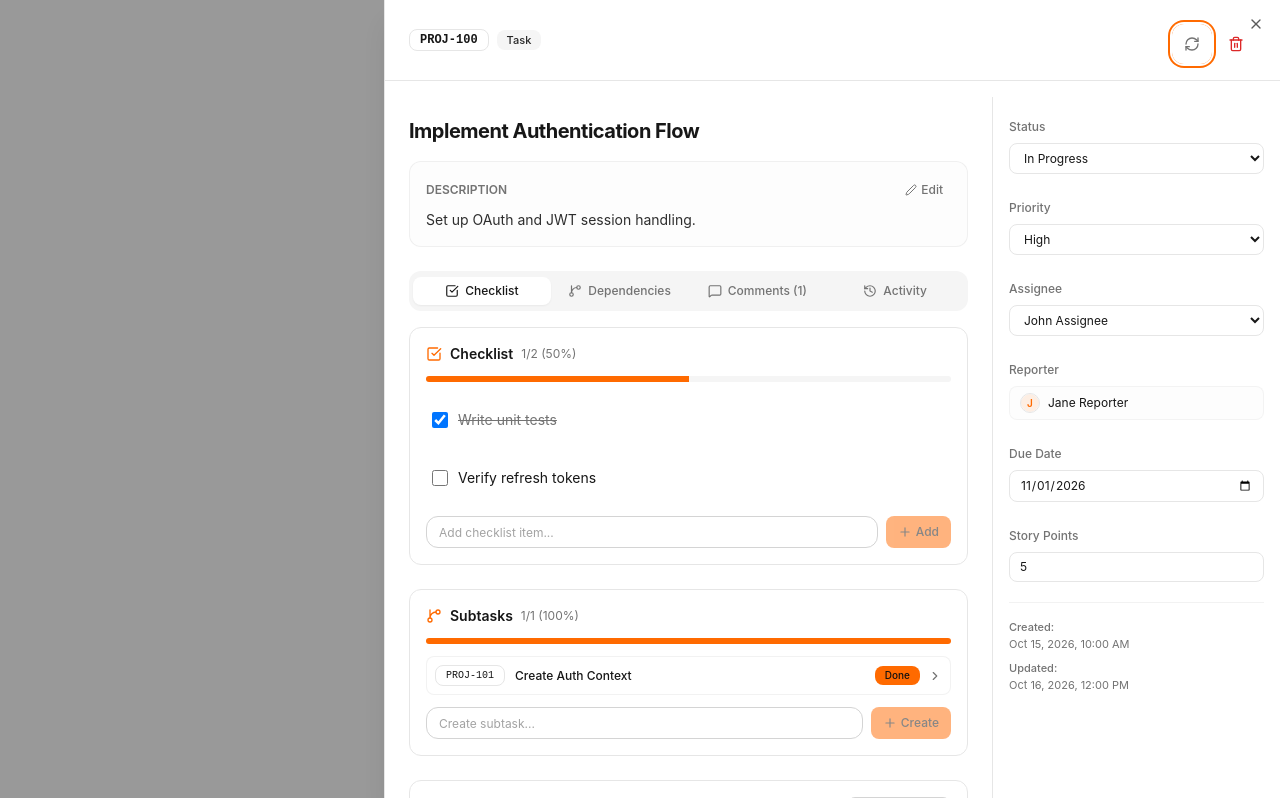
Test: TaskDetailSheet › adds a checklist item successfully
The width and height of the screenshot is (1280, 798).
Expected: the text "PROJ-100" is shown, x1=409 y1=29 x2=489 y2=51
Type "Write documentation" into the field with placeholder "Add checklist item..." at (652, 532), box x1=426 y1=516 x2=878 y2=548
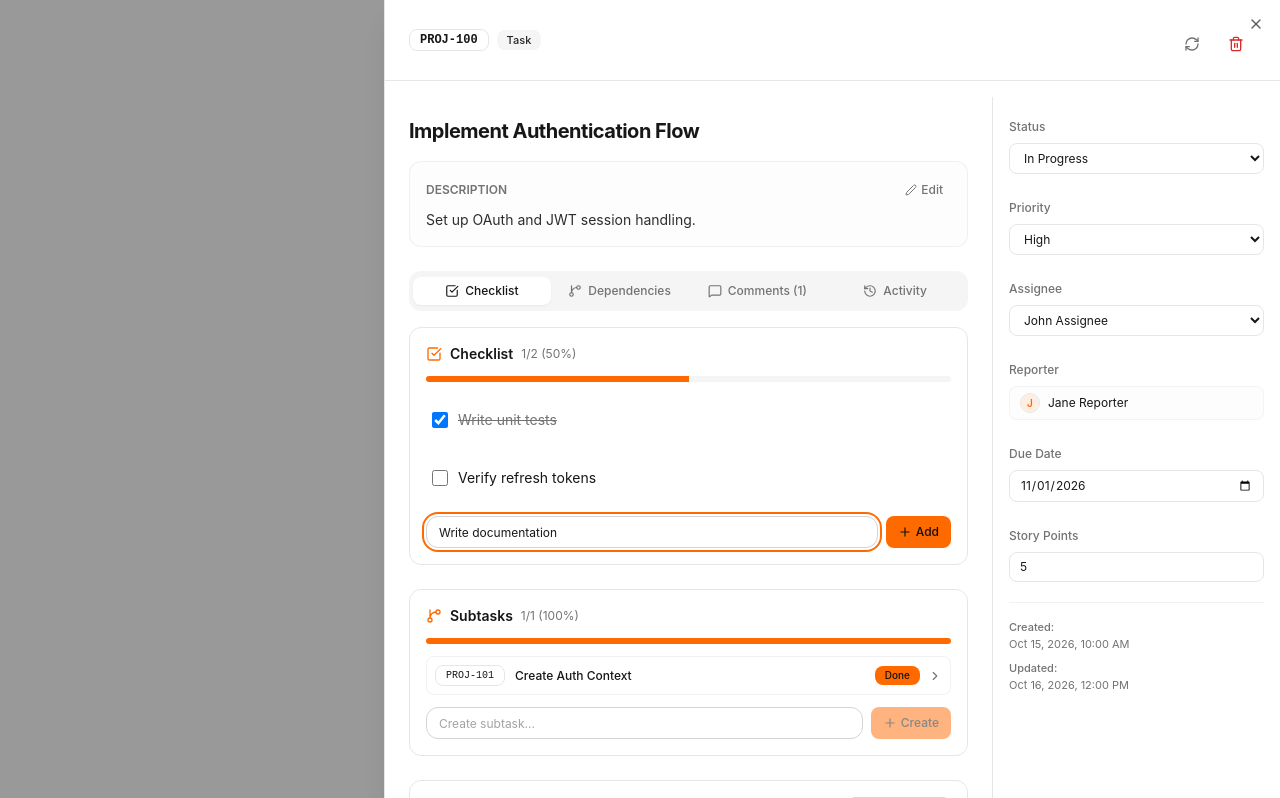
Click the button "Add" at (918, 532), box x1=886 y1=516 x2=951 y2=548
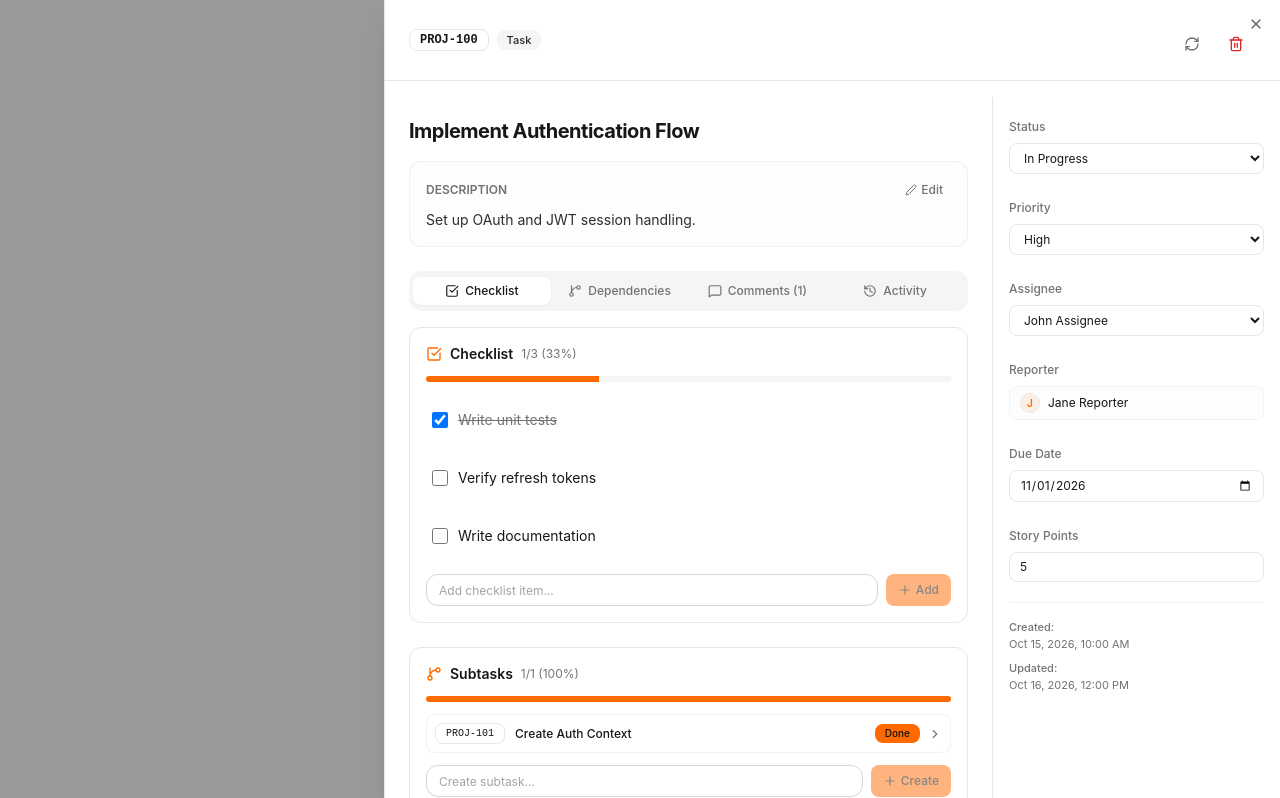
Now the text "Write documentation" is shown, box x1=458 y1=526 x2=596 y2=546
